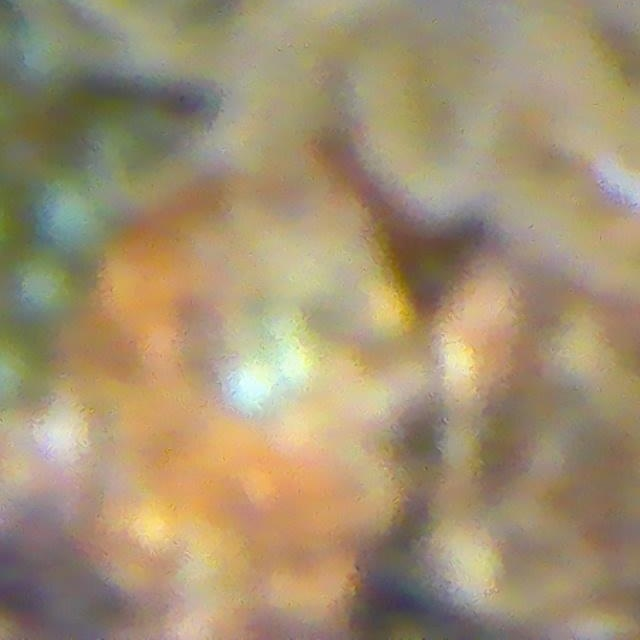SeaGrape: (33, 173, 124, 262), (9, 250, 85, 327), (13, 14, 84, 87)
